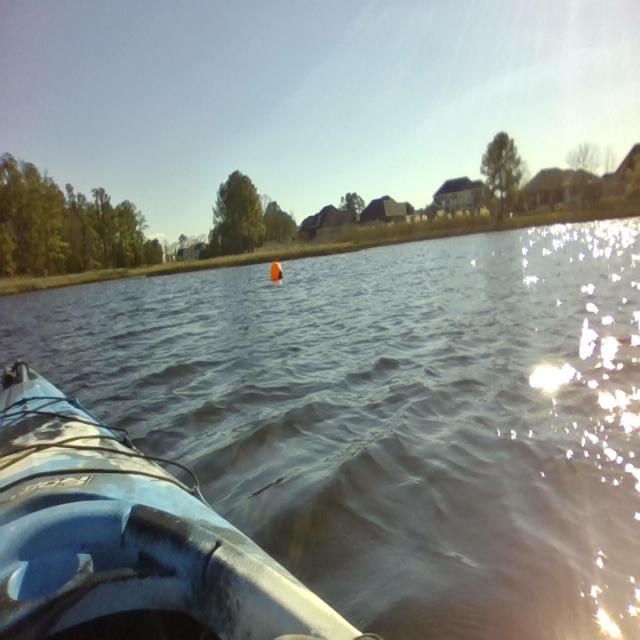Buoy: (267, 258, 293, 294)
